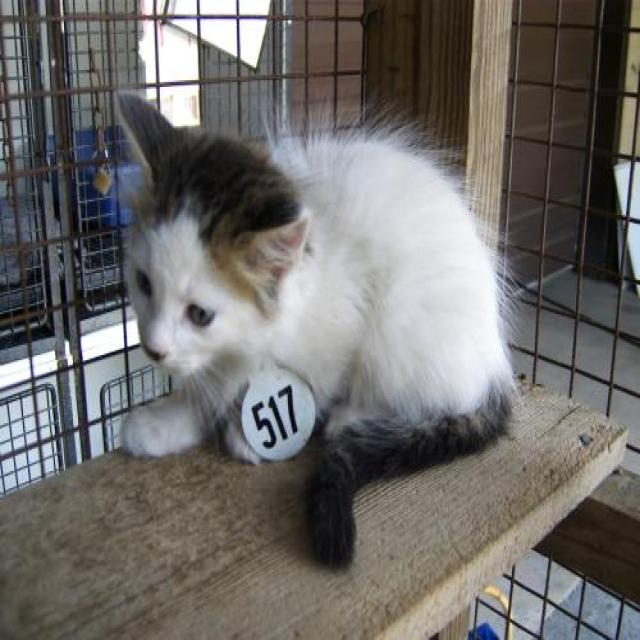Cats: (111, 87, 525, 568)
